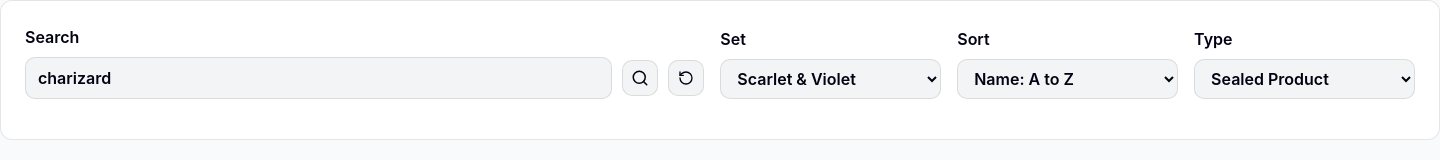
Test: catalog filters › clears the visible filters when reset is clicked
Click the button named "Reset filters" at (686,78), box [668,60,704,96]
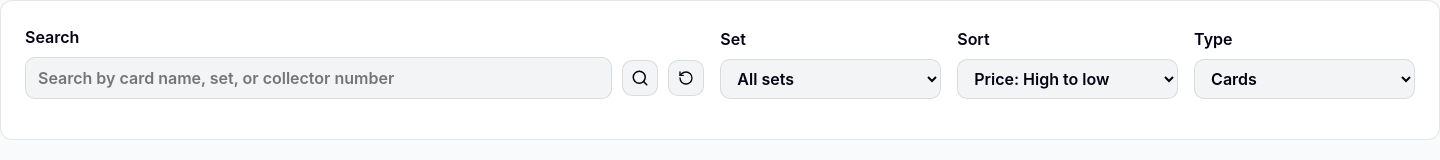
Result: the dropdown labelled "Set" shows "All sets" at [720,59,941,99]
Result: the dropdown labelled "Sort" shows "Price: High to low" at [957,59,1178,99]
Result: the dropdown labelled "Type" shows "Cards" at [1194,59,1415,99]
